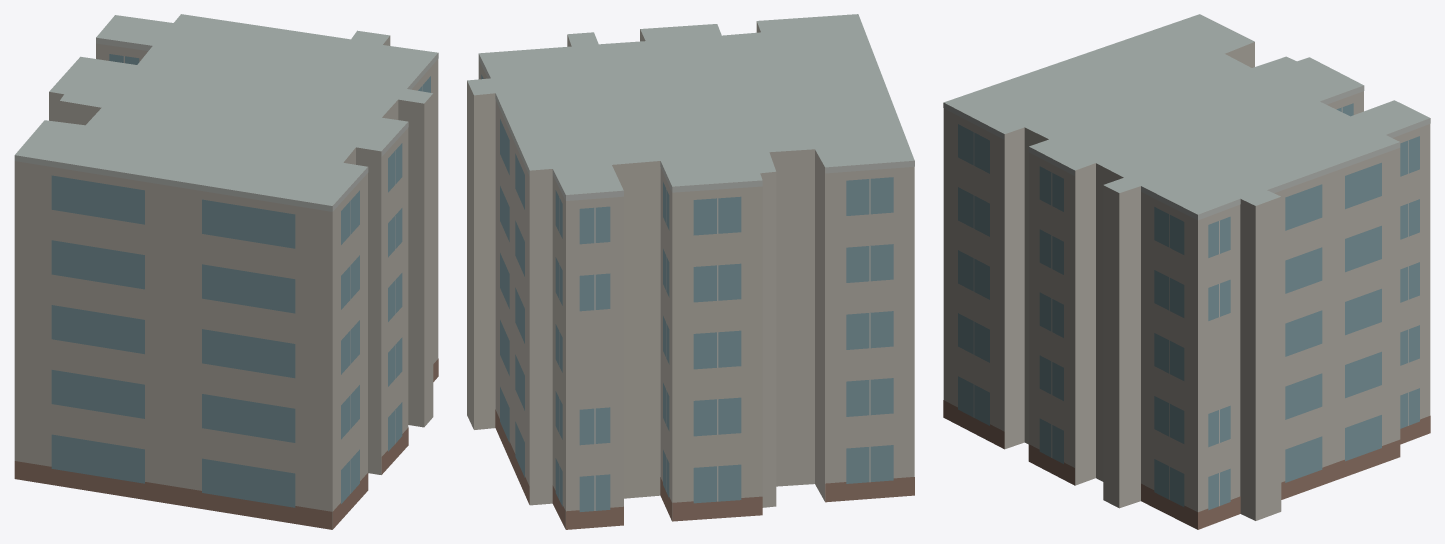
Rendered from survey-upis-32827150.glb.
3 renders of one model, left to right at view 1: azimuth 30°, elevation 25°; view 2: azimuth 150°, elevation 25°; view 3: azimuth 270°, elevation 25°, orthographic. The views are drawn at different scales.
Visible parts, largest first — view 1: survey-upis-32827150.tmp; view 2: survey-upis-32827150.tmp; view 3: survey-upis-32827150.tmp.
Part boxes in pixels (x1=…): survey-upis-32827150.tmp: x1=14, y1=14, x2=438, y2=529; survey-upis-32827150.tmp: x1=467, y1=14, x2=914, y2=529; survey-upis-32827150.tmp: x1=943, y1=14, x2=1430, y2=529.
Bounding box in the file's own units: 18.46 × 13.5 × 18.91.
